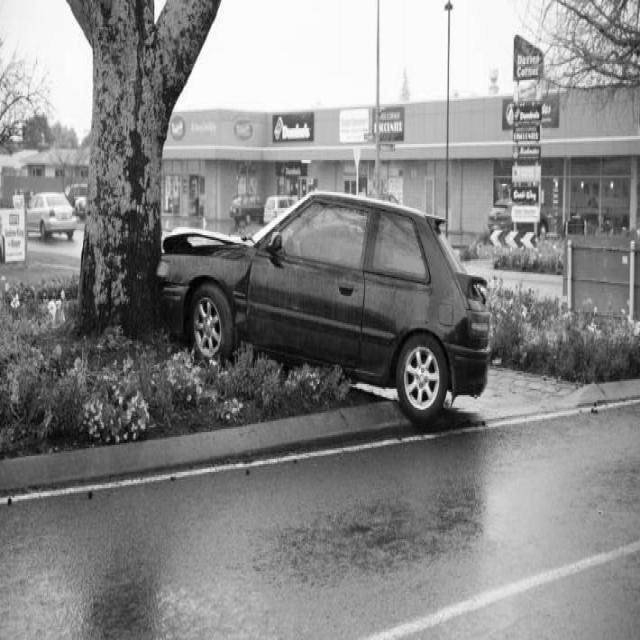accident: (139, 166, 496, 432)
vehicle: (28, 191, 78, 240), (231, 192, 262, 225), (263, 194, 297, 222)
